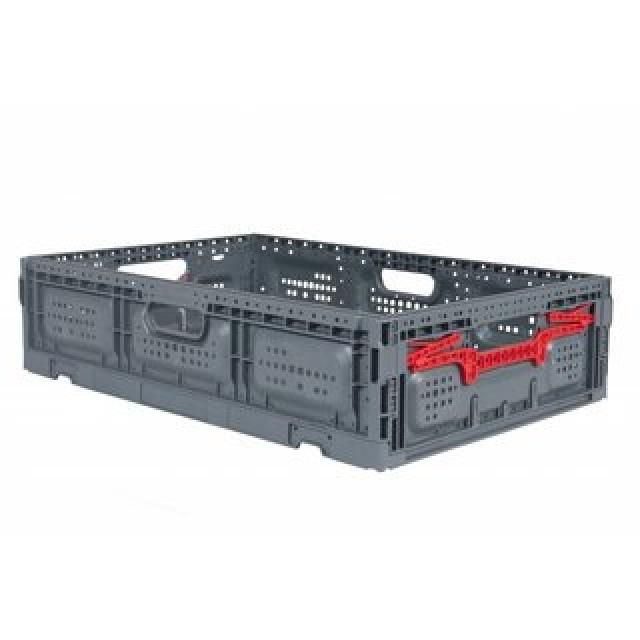basket: (0, 205, 620, 497)
